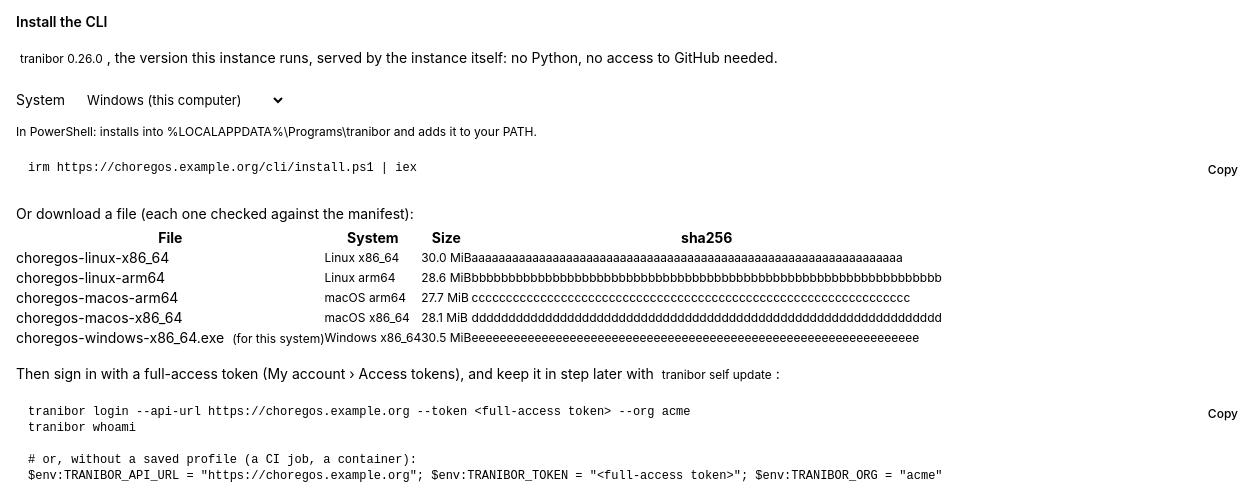
Test: the download block on Integrations › CLI › offers the install command for this computer, every file with its checksum, then the first commands
Expected: the text with test id "cli-version" reads "tranibor 0.26.0", [16,49,107,68]
Expected: the element with test id "cli-install-command" reads "irm https://choregos.example.org/cli/install.ps1 | iex", [28,161,417,175]
Another system: its own command, and its own file first.
Select "macOS" in the dropdown labelled "System" at (180, 100), box [73,84,286,116]
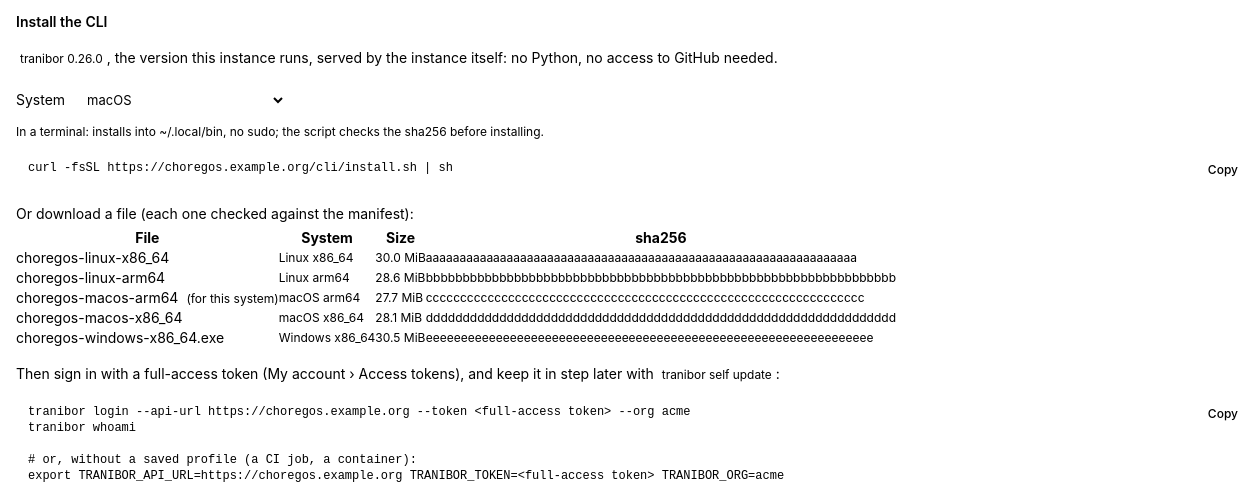
Result: the element with test id "cli-install-command" reads "curl -fsSL https://choregos.example.org/cli/install.sh | sh" at [28,161,453,175]
